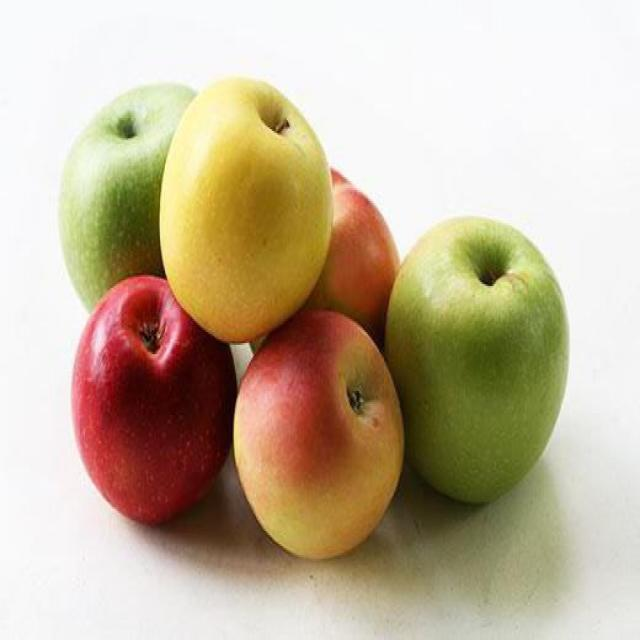fresh_apple: (382, 220, 567, 502), (160, 78, 335, 340), (233, 310, 406, 564), (72, 276, 238, 524)
